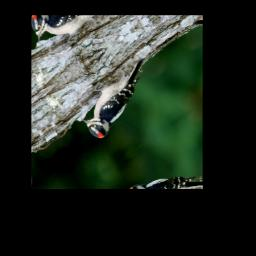Woodpecker: (71, 53, 166, 146)
